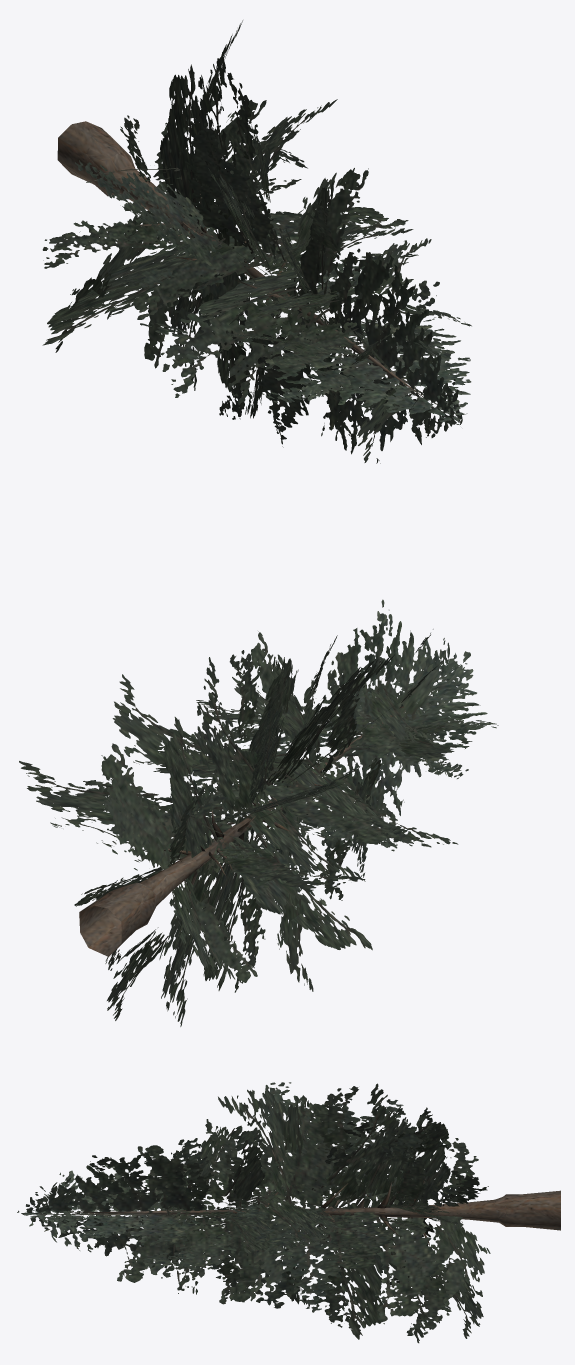
File: tree_3d_02.obj
3 renders of one model, top to bottom at view 1: azimuth 30°, elevation 25°; view 2: azimuth 150°, elevation 25°; view 3: azimuth 270°, elevation 25°, orthographic. The views are drawn at different scales.
Visible parts, largest first — view 1: tree_3d_02; view 2: tree_3d_02; view 3: tree_3d_02.
Boxes of the visible parts, x1,y1,x2,y2 form: tree_3d_02: (42,20,471,463); tree_3d_02: (19,599,498,1026); tree_3d_02: (17,1082,560,1343).
Bounding box in the file's own units: 10.06 × 10.07 × 18.46.
1 material, 1 textured.
